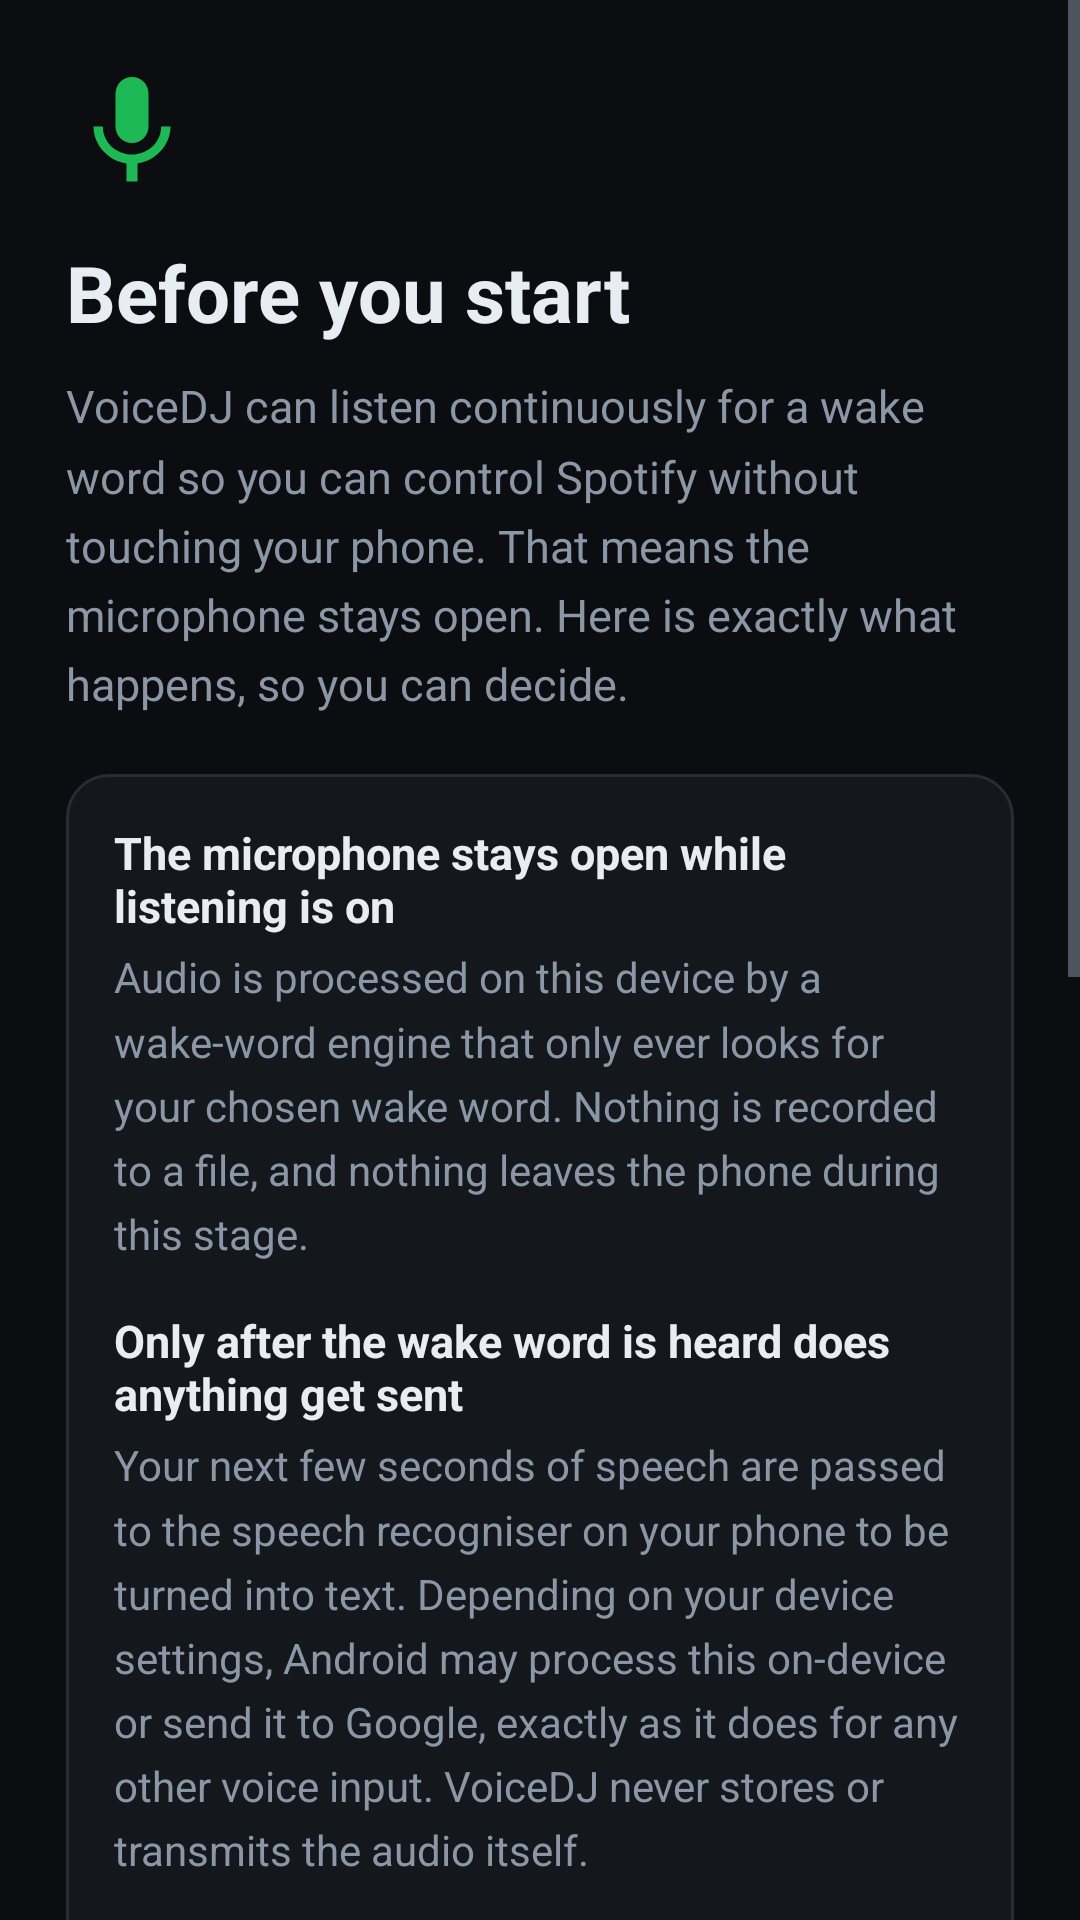

Icon click points for this 1080w x 1920h phone screenshot, format (x=x, y=y):
mic: (x=132, y=129)
